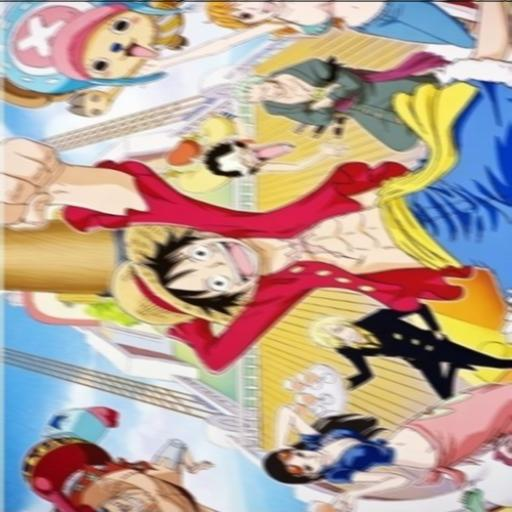Luffy: (83, 219, 272, 330)
Nami: (200, 0, 290, 38)
NicoRobin: (258, 424, 345, 496)
Usopp: (205, 127, 305, 175)
Zoro: (228, 72, 286, 104)
sanji: (300, 302, 372, 352)
